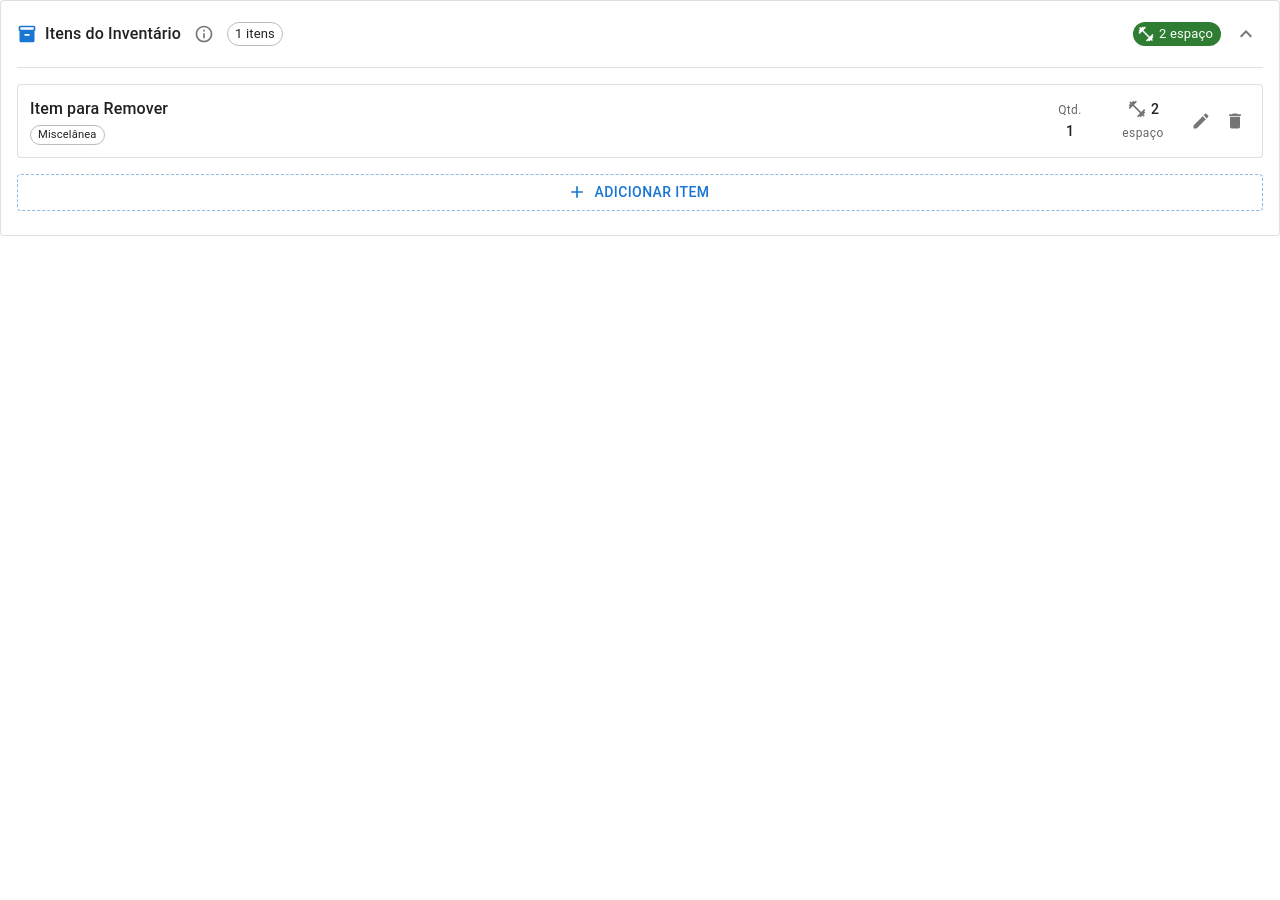
Test: InventoryList › Remover item › deve abrir diálogo de confirmação ao clicar em remover
This screenshot has width=1280, height=900.
Click the button named "remover item para remover" at (1235, 121), box [1220, 106, 1250, 136]
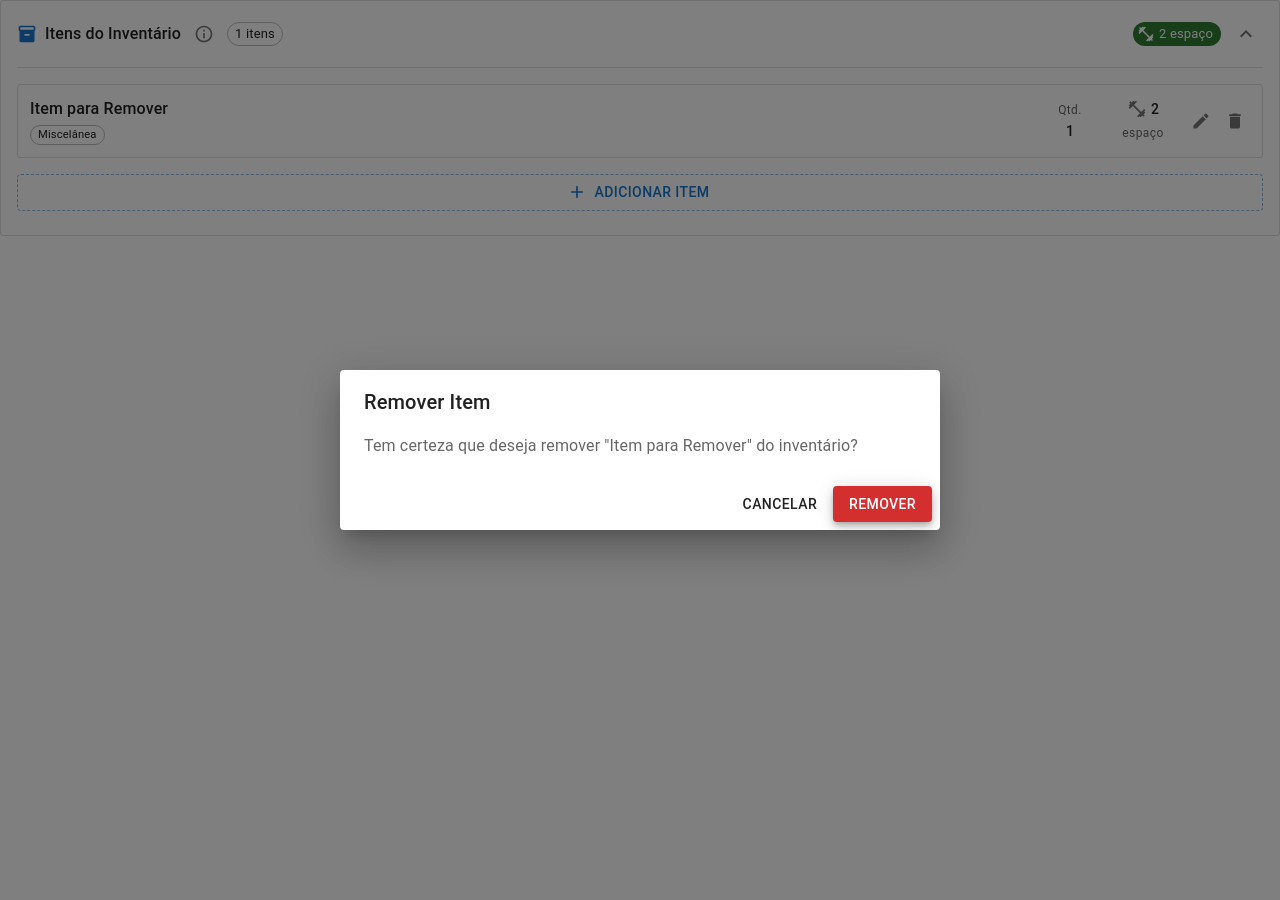
Check: the heading "Remover Item" is shown, box [364, 390, 491, 414]
Check: the text "Tem certeza" is shown, box [364, 436, 858, 455]
